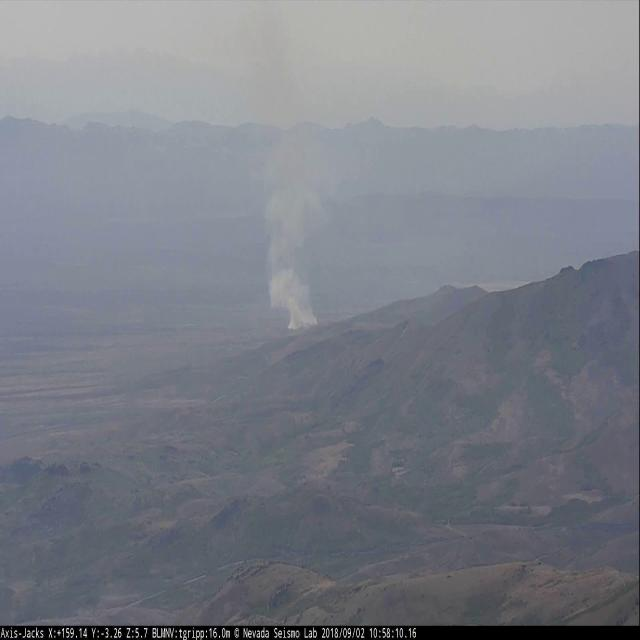smoke: (248, 105, 349, 331)
